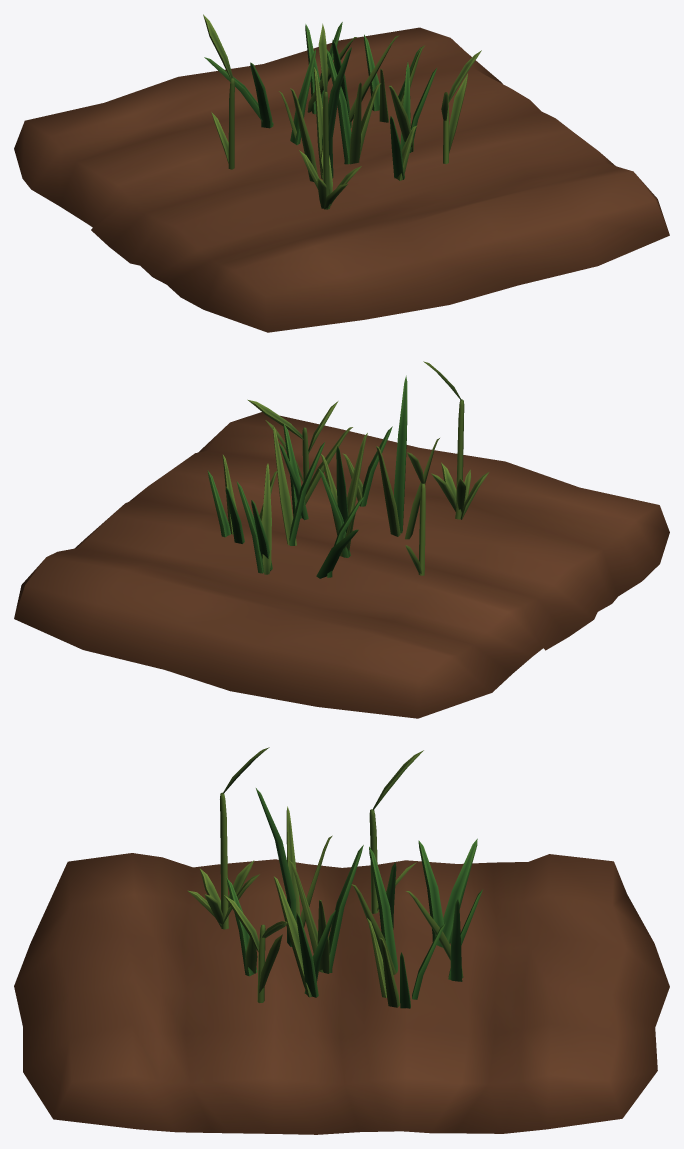
The model's file is SM_PlantSoil_Barley_Lv1.fbx.
The picture shows the model from 3 angles, top to bottom: view 1: azimuth 30°, elevation 25°; view 2: azimuth 150°, elevation 25°; view 3: azimuth 270°, elevation 25°; orthographic projection. The views are drawn at different scales.
Parts seen in each view (by area): view 1: SM_PlantSoil_Barley_Lv1; view 2: SM_PlantSoil_Barley_Lv1; view 3: SM_PlantSoil_Barley_Lv1.
Boxes of the visible parts, x1,y1,x2,y2 form: SM_PlantSoil_Barley_Lv1: (14, 14, 669, 332); SM_PlantSoil_Barley_Lv1: (14, 361, 669, 718); SM_PlantSoil_Barley_Lv1: (14, 747, 669, 1134).
Size of the model in its own units: 96.14 by 40.56 by 103.
